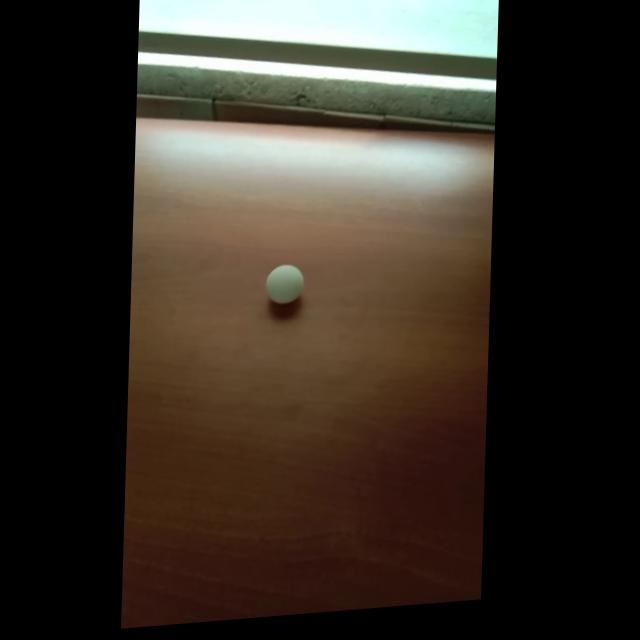white ball: (265, 262, 304, 306)
